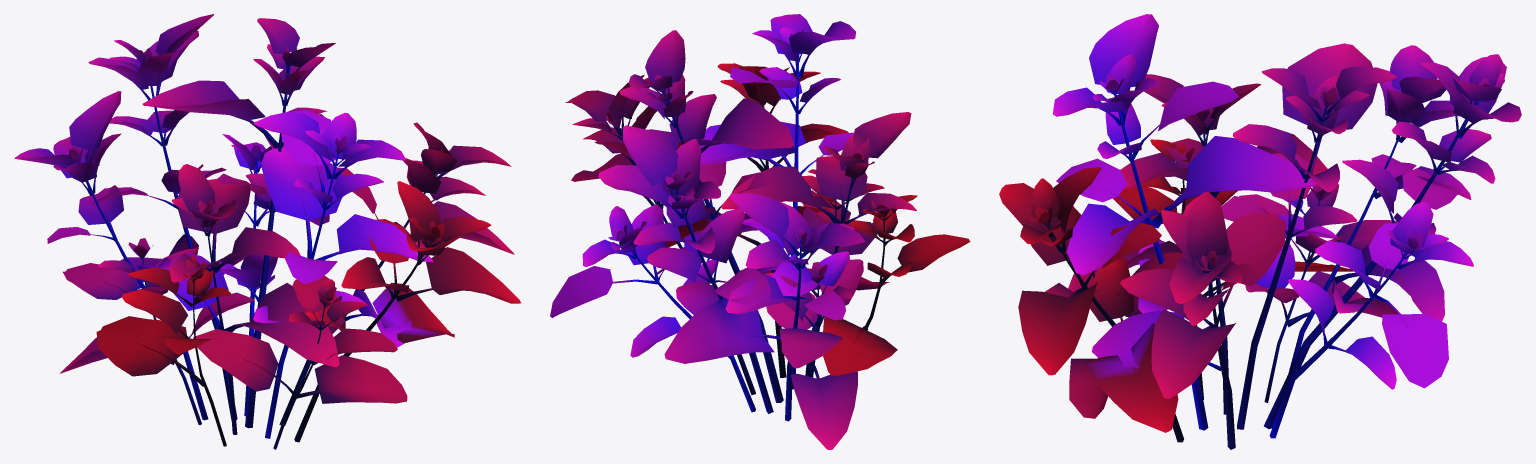
Rendered from Lemon_Balm_umslacdia_Mid_umslacdia_VarD_LOD1.fbx.
The picture shows the model from 3 angles, left to right: view 1: azimuth 30°, elevation 25°; view 2: azimuth 150°, elevation 25°; view 3: azimuth 270°, elevation 25°; orthographic projection. The views are drawn at different scales.
Parts seen in each view (by area): view 1: _eiso_VarD_LOD3; view 2: _eiso_VarD_LOD3; view 3: _eiso_VarD_LOD3.
Part boxes in pixels (x1,y1,x2,y2): _eiso_VarD_LOD3: (14, 14, 521, 449); _eiso_VarD_LOD3: (550, 14, 970, 449); _eiso_VarD_LOD3: (999, 14, 1521, 449).
Bounding box in the file's own units: 49.1 × 42.34 × 48.51.
